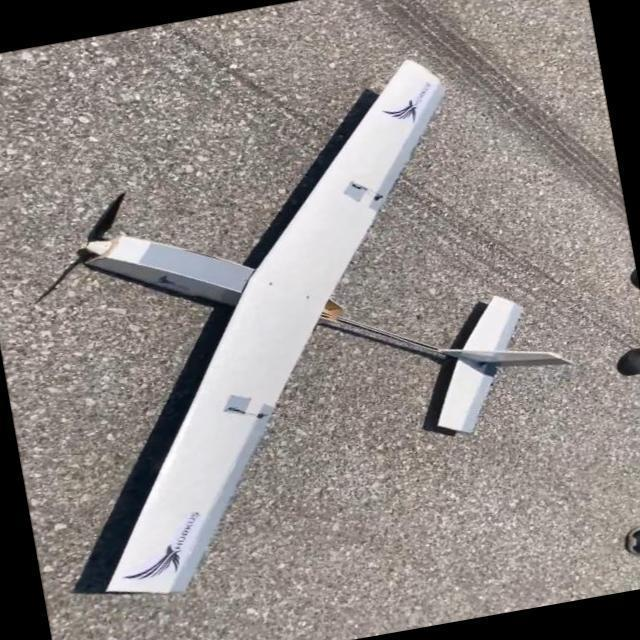iha: (0, 32, 582, 613)
